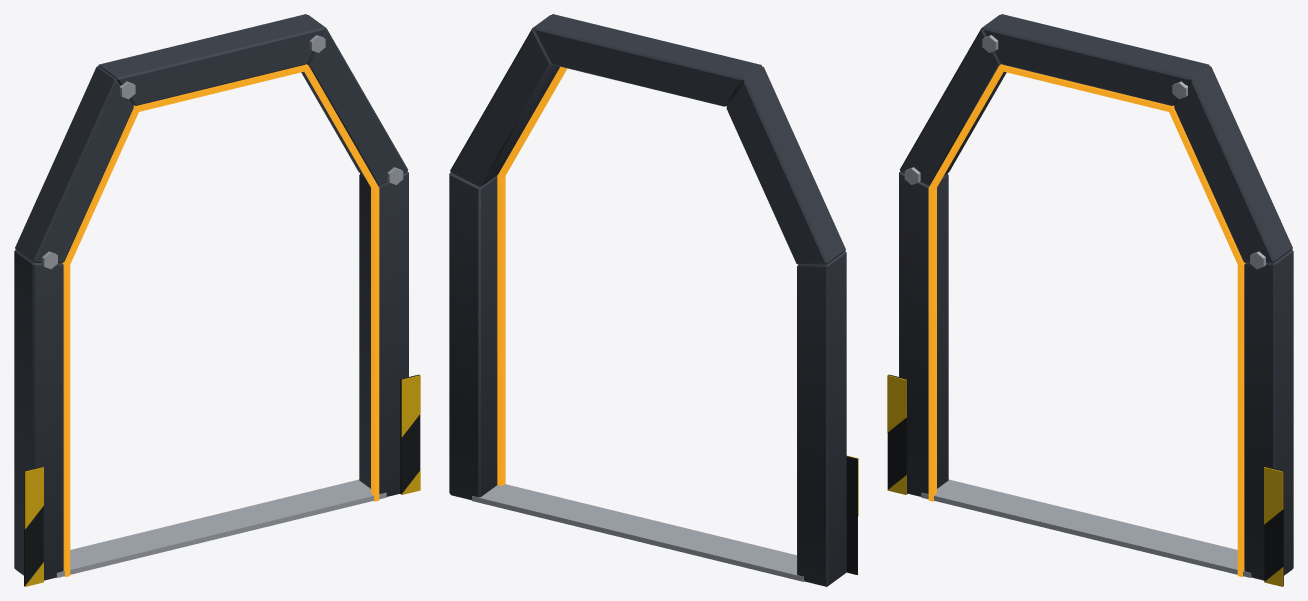
File: doorframe_hexagonal.glb
The picture shows the model from 3 angles, left to right: view 1: azimuth 30°, elevation 25°; view 2: azimuth 150°, elevation 25°; view 3: azimuth 330°, elevation 25°; orthographic projection.
Parts seen in each view (by area): view 1: doorframe_hexagonal; view 2: doorframe_hexagonal; view 3: doorframe_hexagonal.
Boxes of the visible parts, <box> form: doorframe_hexagonal: <box>14,14,420,586</box>; doorframe_hexagonal: <box>449,14,858,586</box>; doorframe_hexagonal: <box>887,14,1293,586</box>.
Size of the model in its own units: 2.52 by 2.95 by 0.248.
